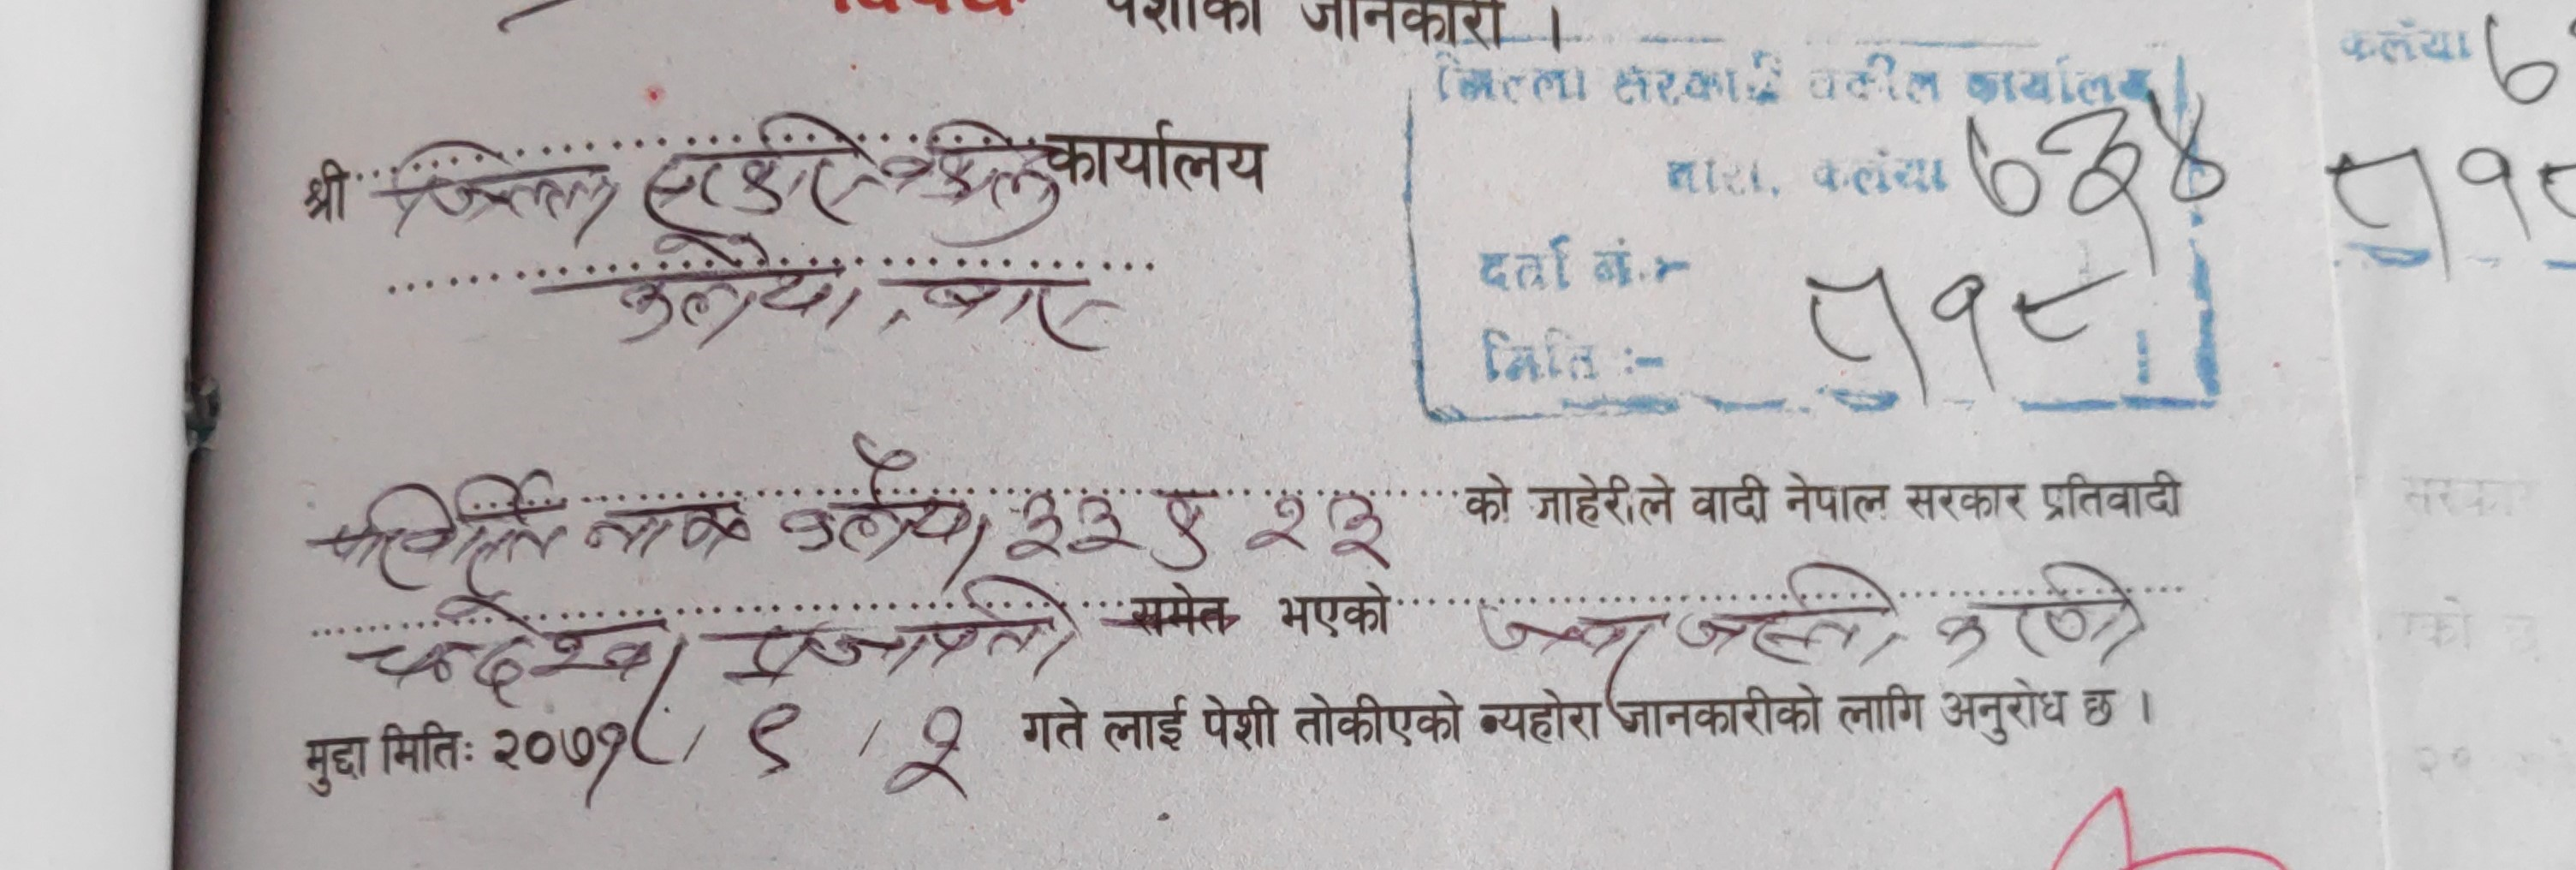text: (1778, 238, 2096, 395), (721, 574, 1094, 686), (353, 590, 687, 707), (320, 462, 568, 600), (775, 429, 991, 584), (1953, 107, 2228, 224), (636, 107, 881, 232), (614, 234, 869, 354), (375, 130, 619, 243), (1676, 562, 1911, 674), (1932, 562, 2154, 671), (882, 115, 1061, 243), (1470, 584, 1666, 689), (917, 258, 1119, 352), (1242, 487, 1408, 569), (575, 498, 751, 567), (999, 482, 1130, 569), (884, 701, 981, 801), (1153, 475, 1214, 574), (743, 699, 808, 784)
